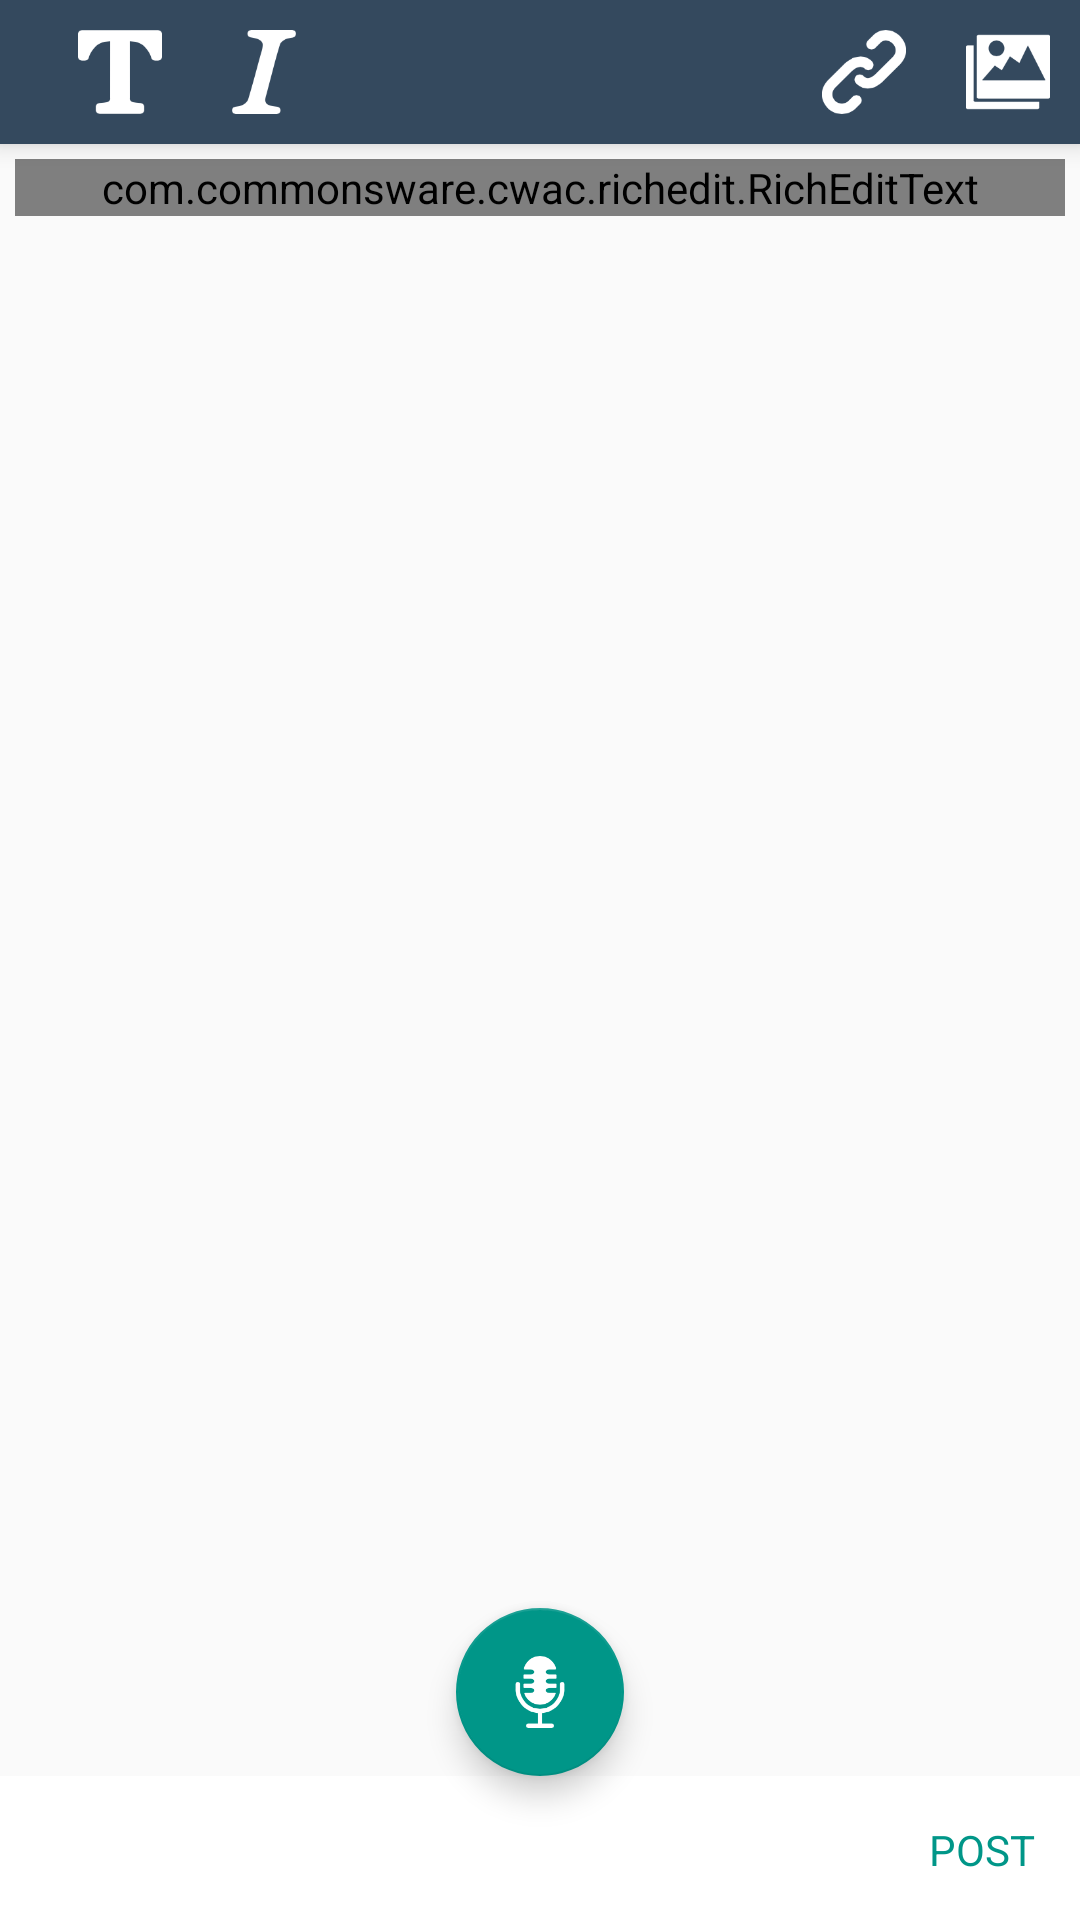

Locate icon controls on the screen. Image size 1080 × 1920, boxes as (x1, y1, x2, y2).
italic toggle: (232, 30, 296, 114)
link toggle: (822, 30, 906, 114)
mic: (456, 1608, 624, 1776)
